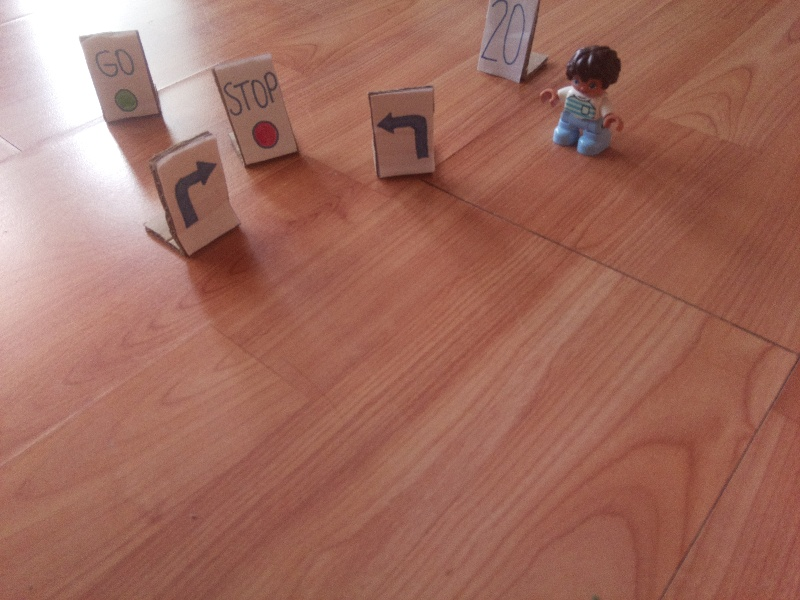20: (484, 1, 530, 74)
go: (93, 44, 145, 112)
person: (549, 41, 628, 155)
stop: (223, 69, 285, 151)
turn left: (375, 107, 432, 167)
turn right: (170, 158, 217, 234)
